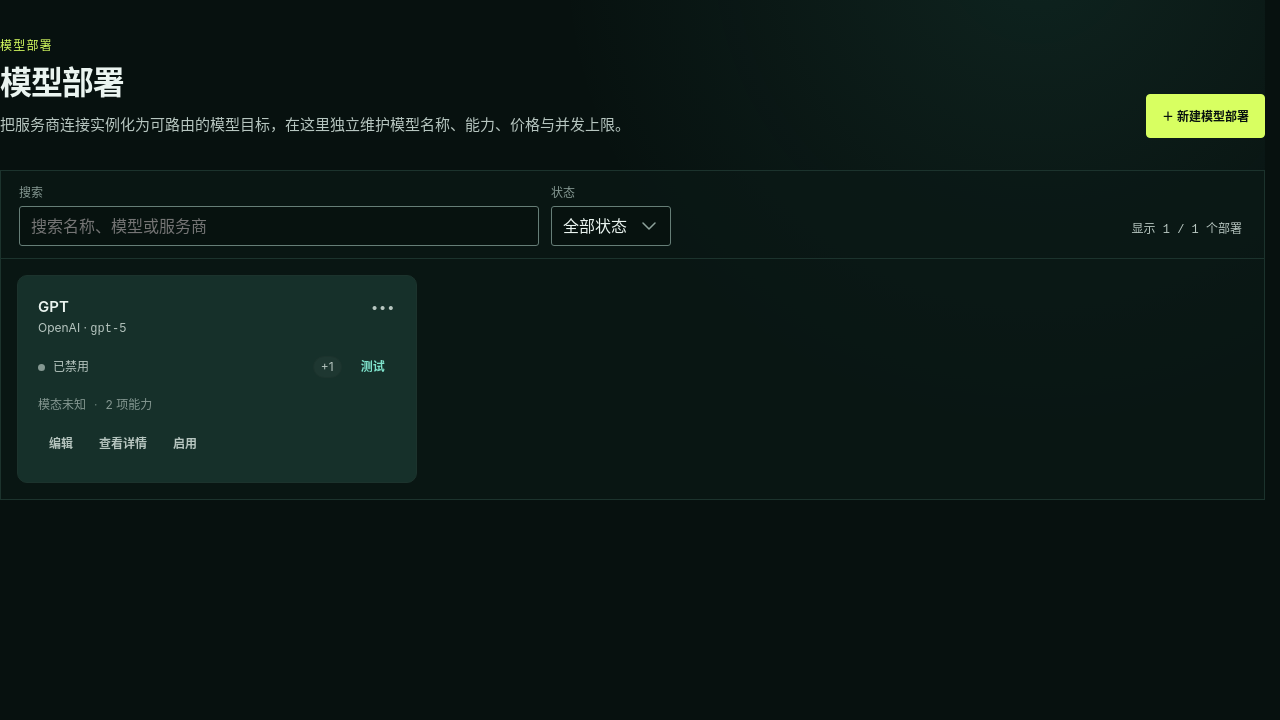
Test: destructive step-up › says nothing about a price that is set, and reads it out in the drawer
This screenshot has width=1280, height=720.
Check: the text "价格版本" is not shown
Click the button "查看详情" at {"x": 123, "y": 444}, box [88,426,158,462]
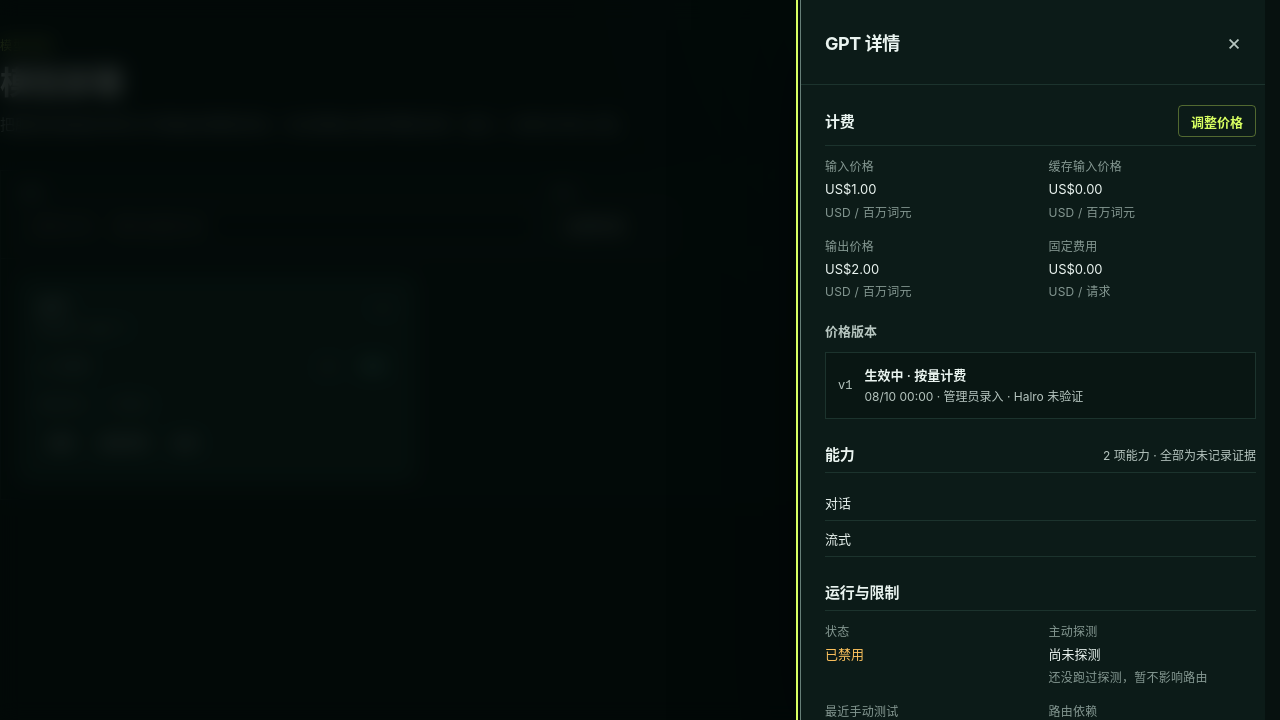
Check: the text "价格版本" is shown, box [825,323,877,339]
Check: the dialog "GPT 详情" is shown, box [800,0,1279,719]
